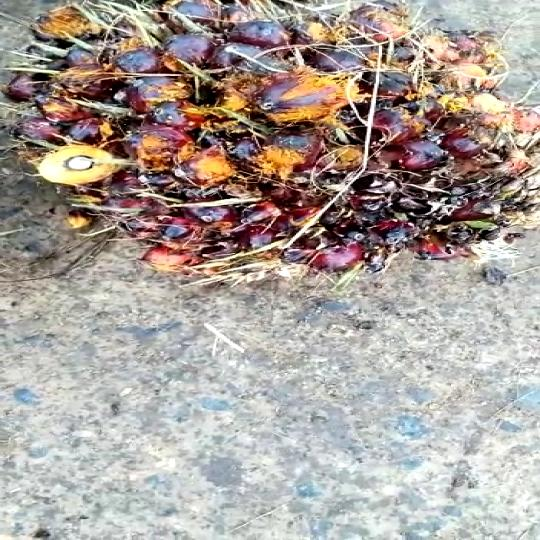masak: (0, 0, 540, 269)
